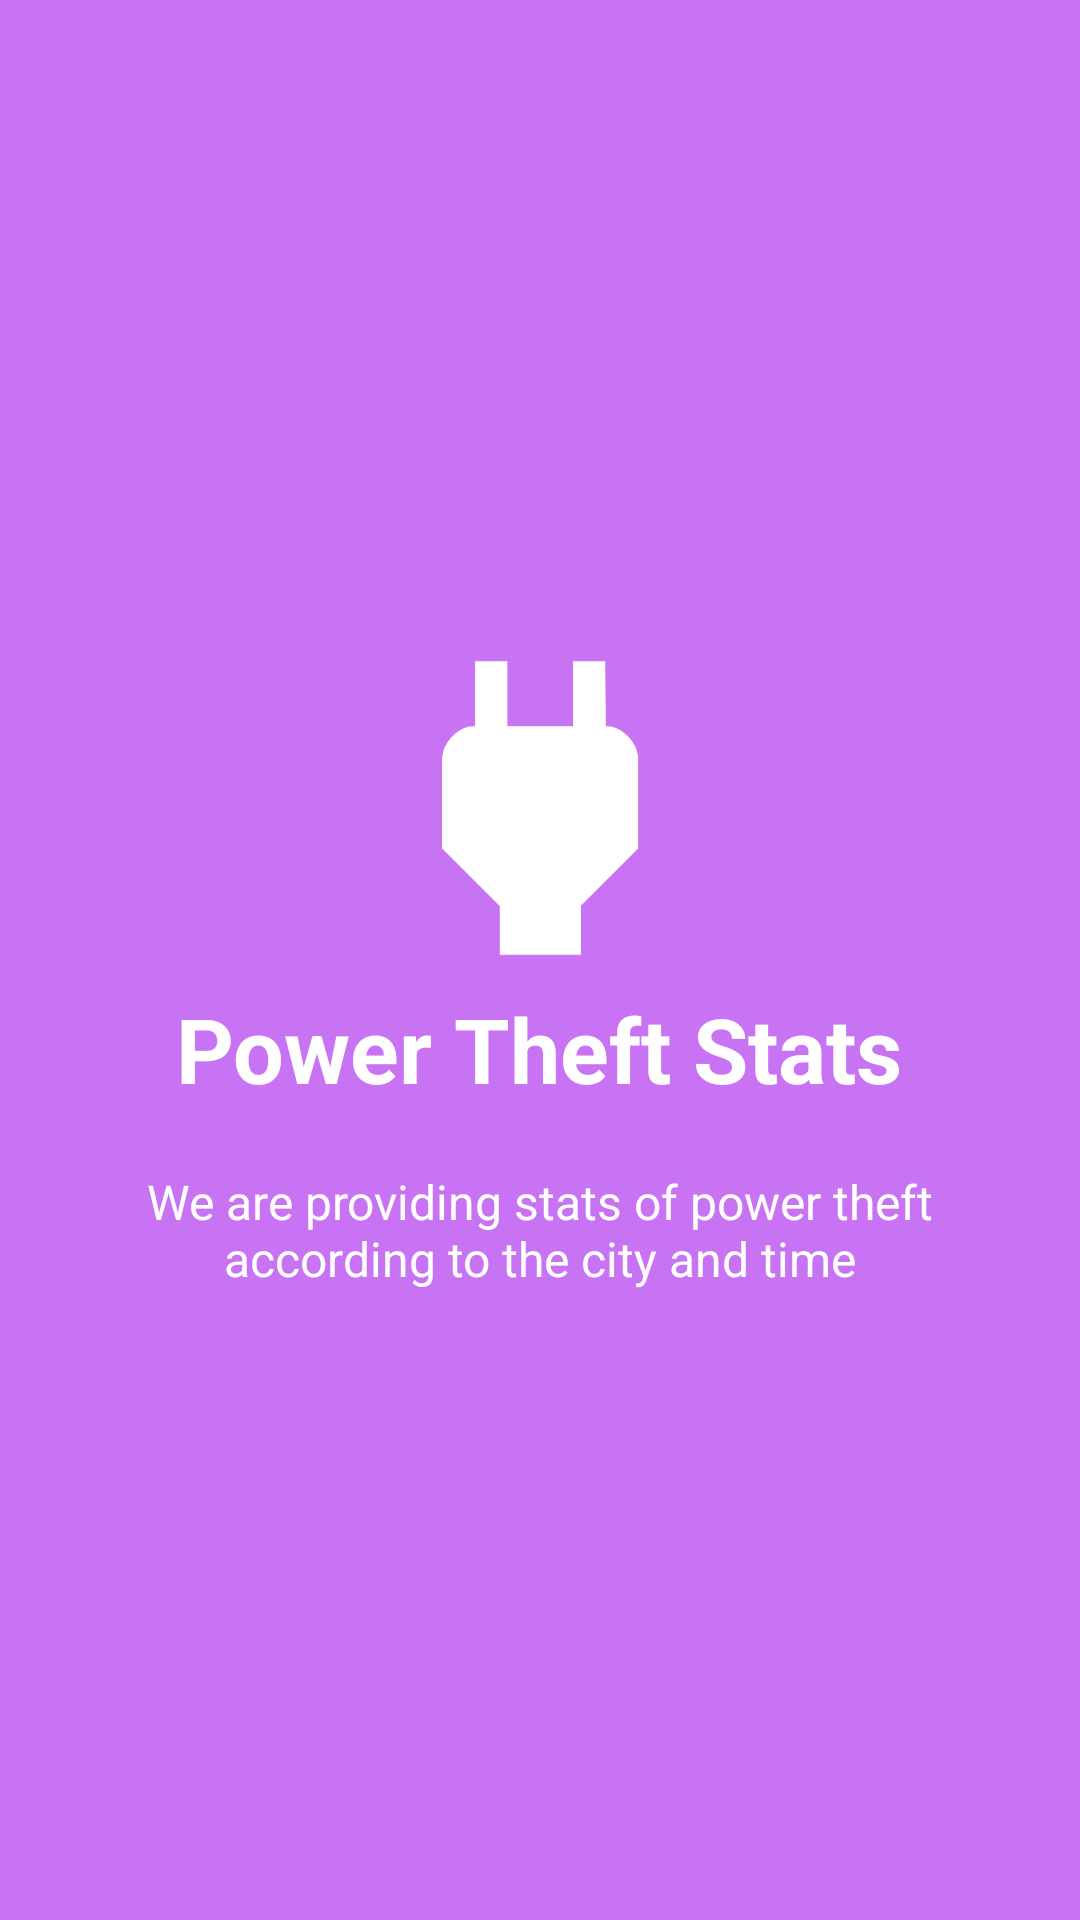

Named icons in this screenshot (1080 × 1920) and their bounding boxes, {"x1": x1, "y1": y1, "x2": x2, "y2": y2}:
vip power: {"x1": 442, "y1": 661, "x2": 638, "y2": 955}
